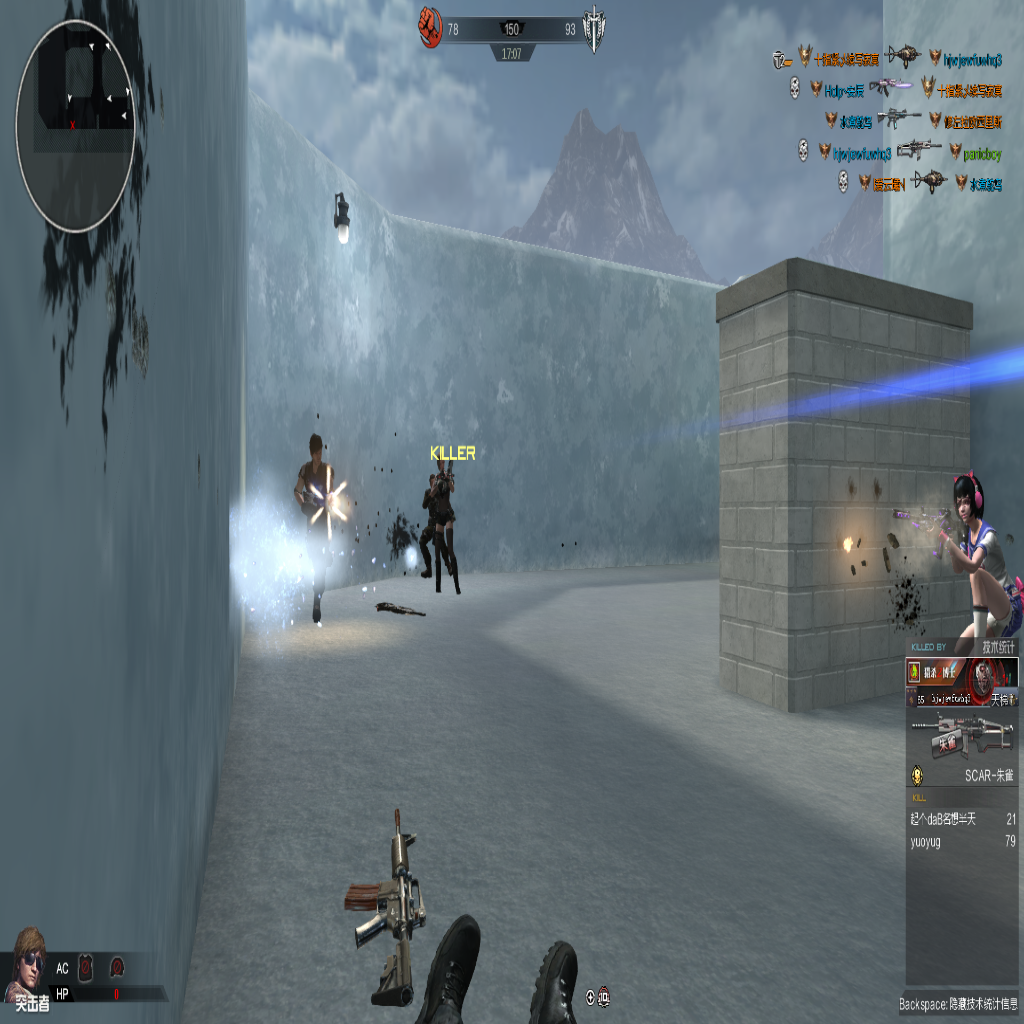ct: (295, 417, 349, 634), (421, 463, 459, 596)
